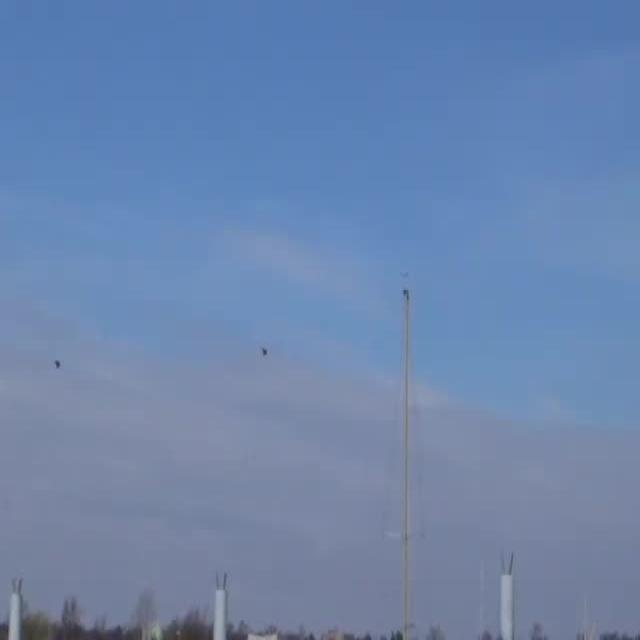bird: (253, 340, 275, 361), (52, 353, 68, 375)
